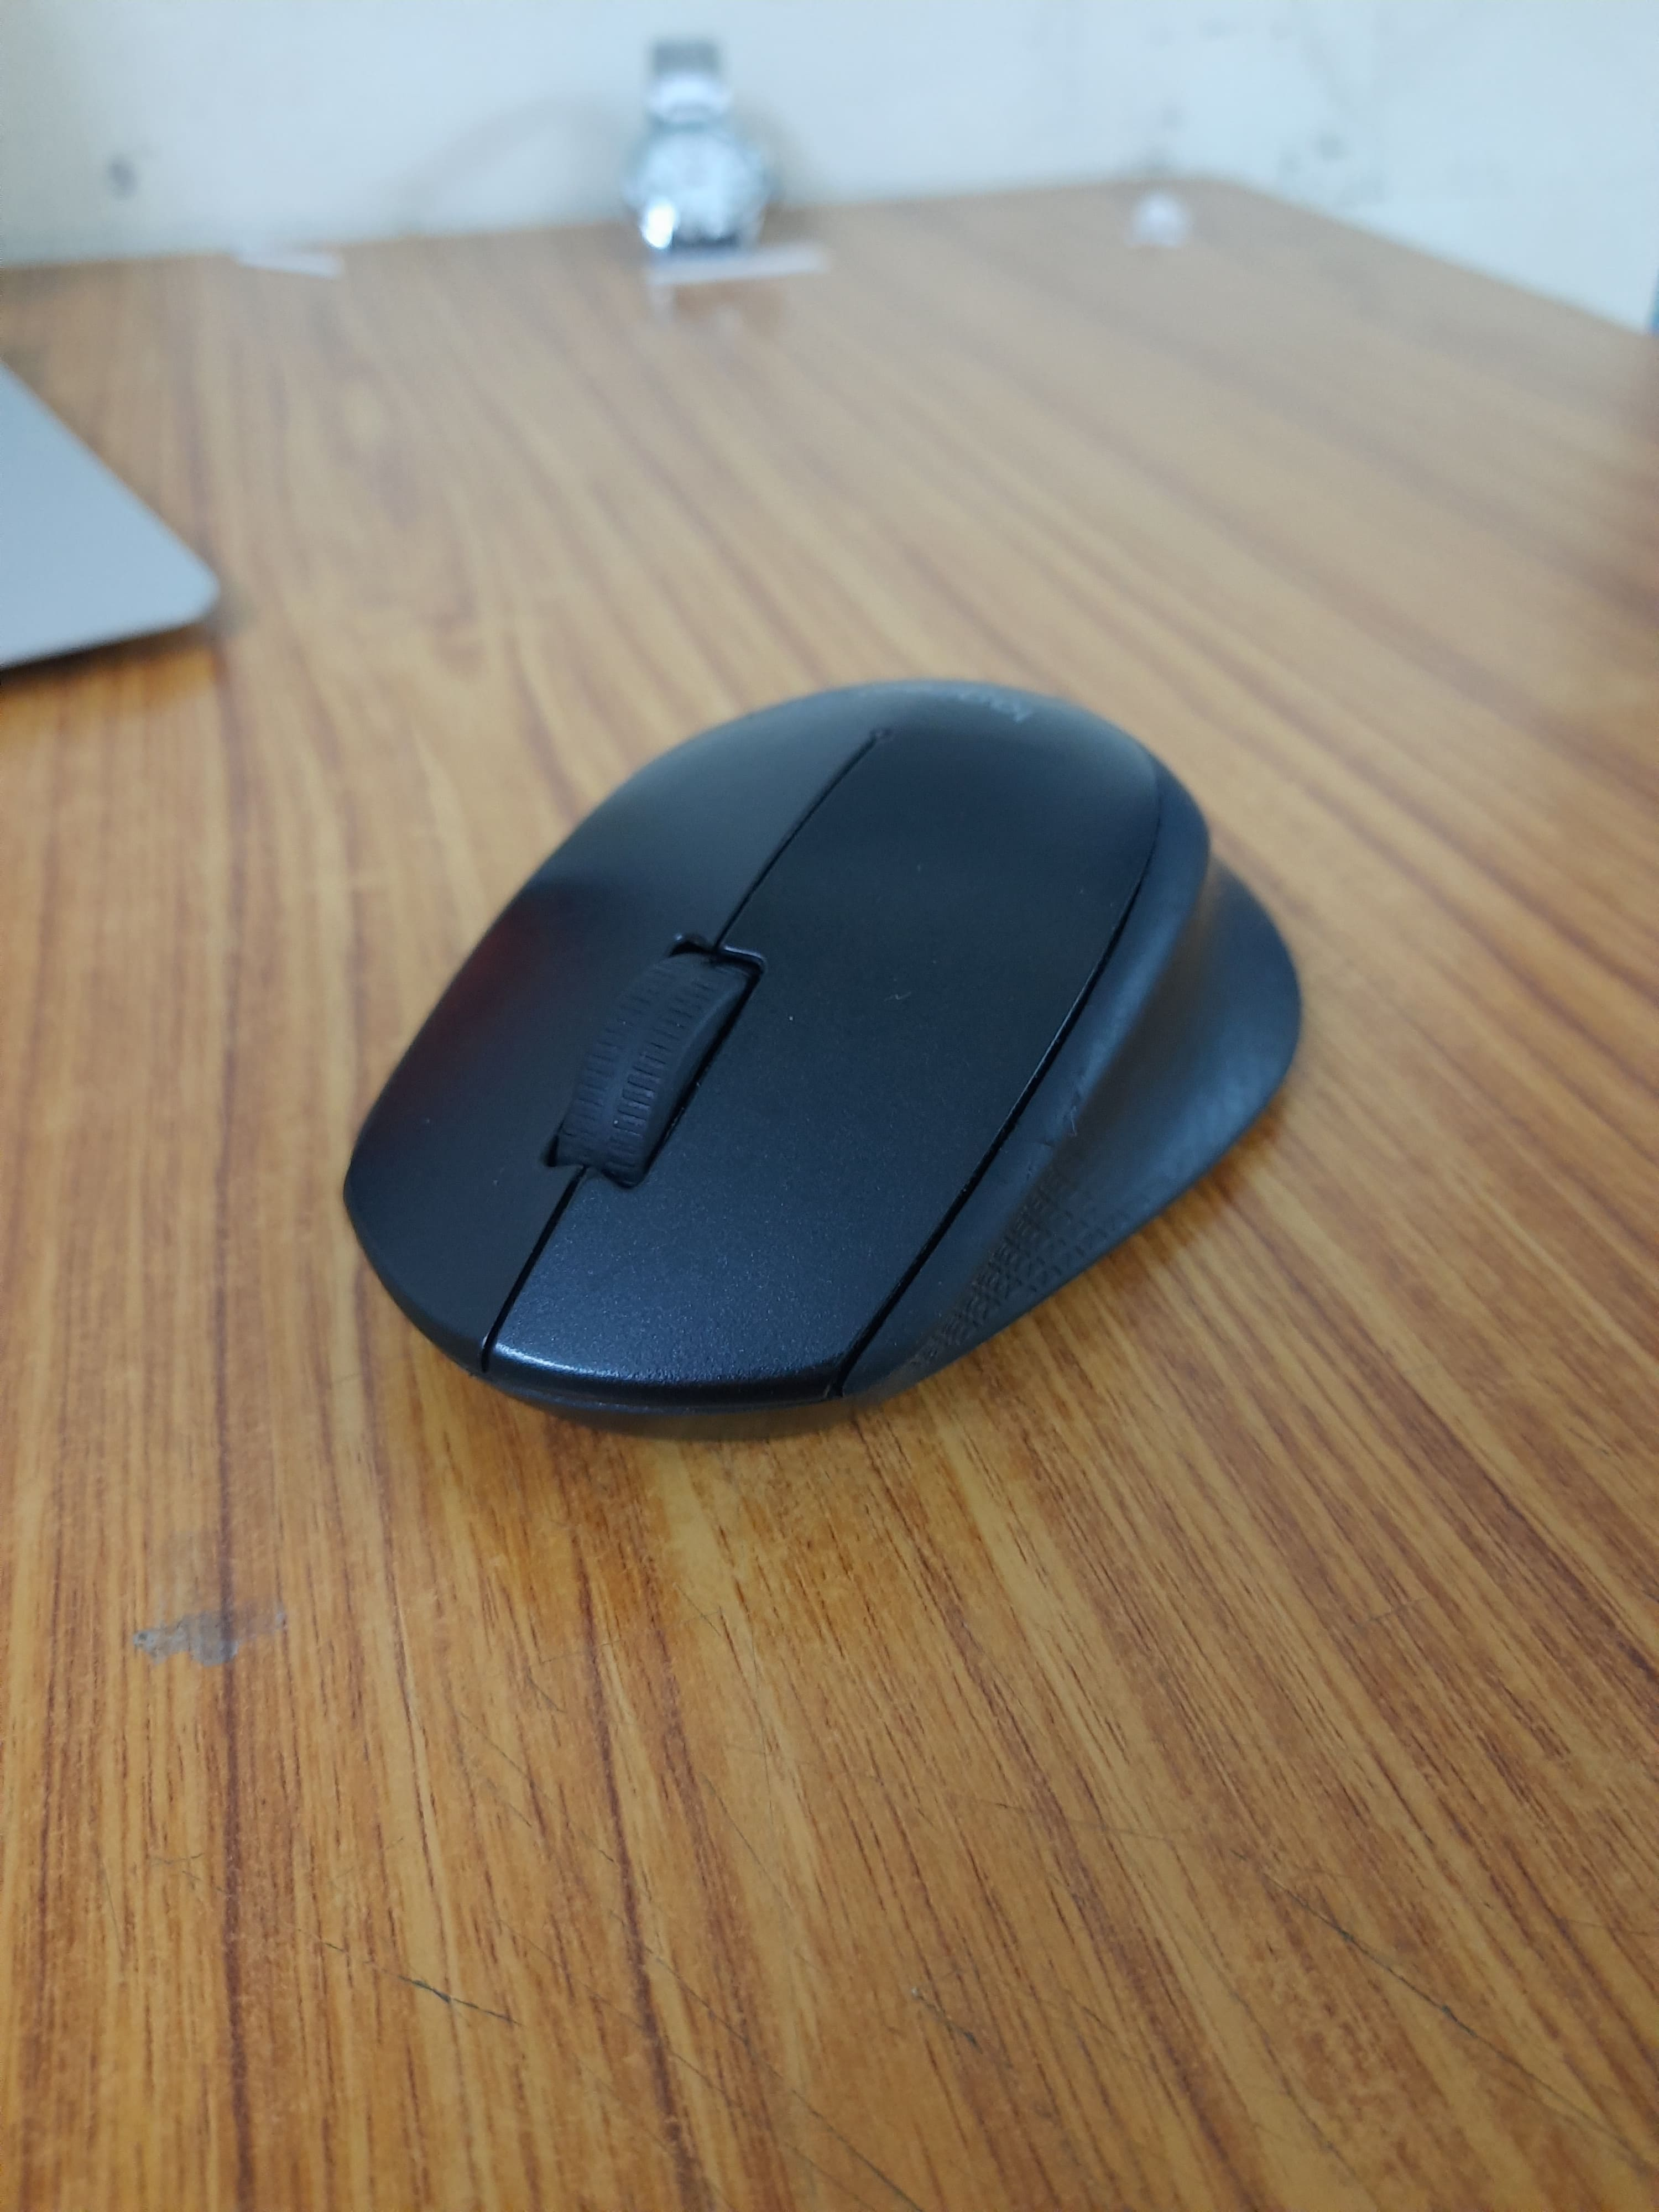Vikash's Mouse: (338, 674, 1312, 1449)
